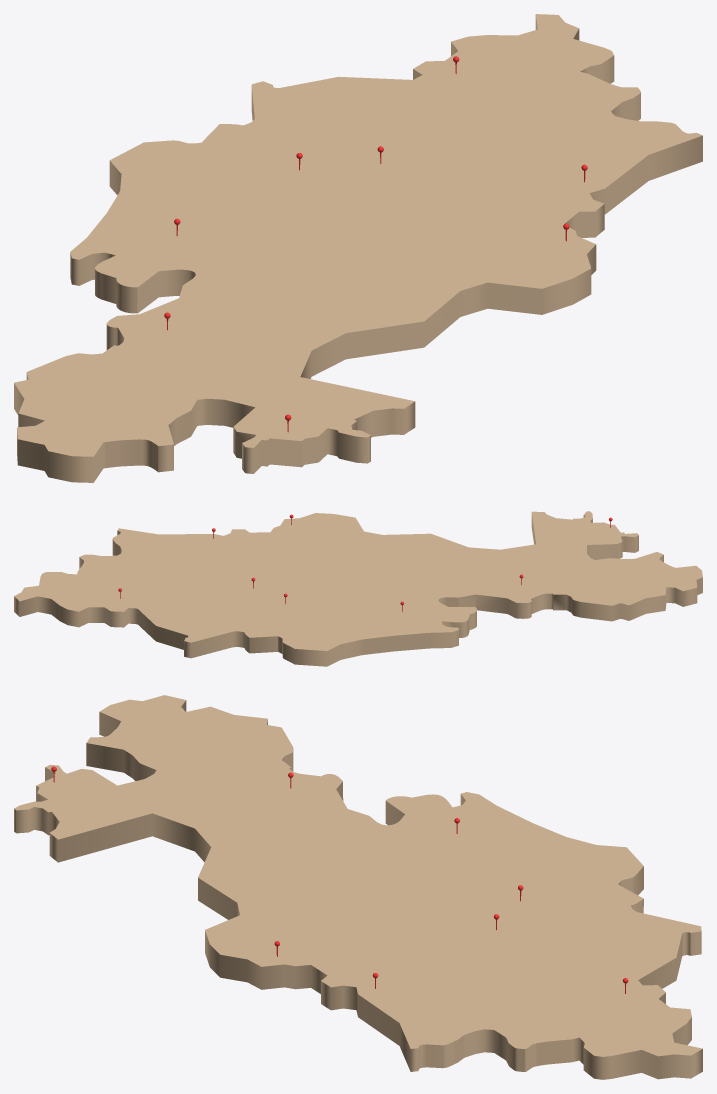
File: map-new.glb
The picture shows the model from 3 angles, top to bottom: view 1: azimuth 30°, elevation 25°; view 2: azimuth 150°, elevation 25°; view 3: azimuth 270°, elevation 25°; orthographic projection. The views are drawn at different scales.
Parts seen in each view (by area): view 1: map; view 2: map; view 3: map.
Part boxes in pixels (x1,y1,x2,y2): map: [14, 14, 702, 482]; map: [14, 511, 702, 666]; map: [14, 695, 702, 1079].
Bounding box in the file's own units: 6.87 × 0.3562 × 5.52.
